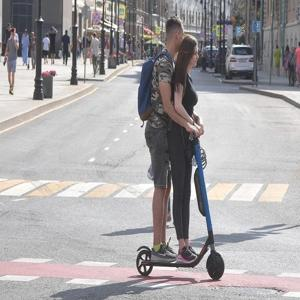human on a scooter: (135, 15, 225, 282)
